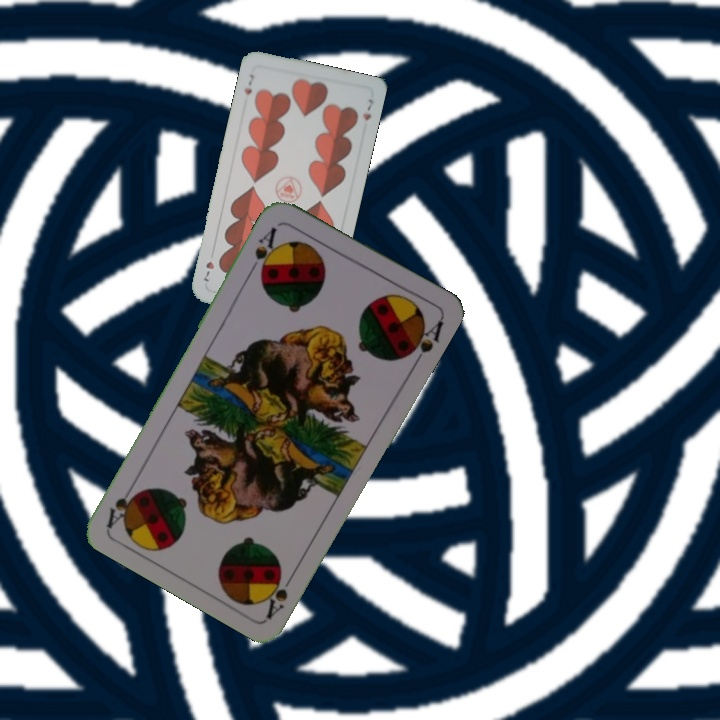H7: (240, 70, 257, 97)
SA: (259, 565, 300, 620), (250, 222, 281, 279)
